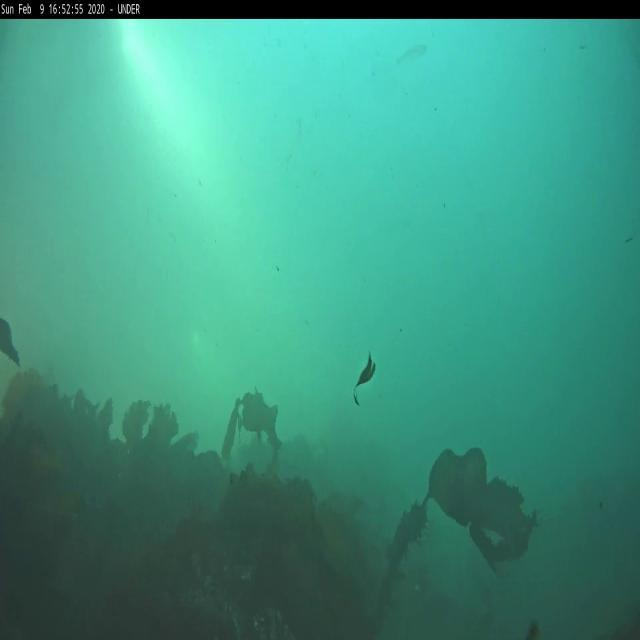fish: (397, 46, 428, 66)
